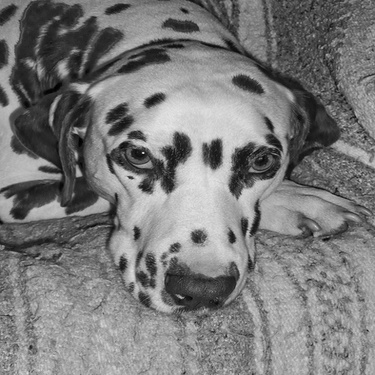dog: (4, 3, 370, 323)
